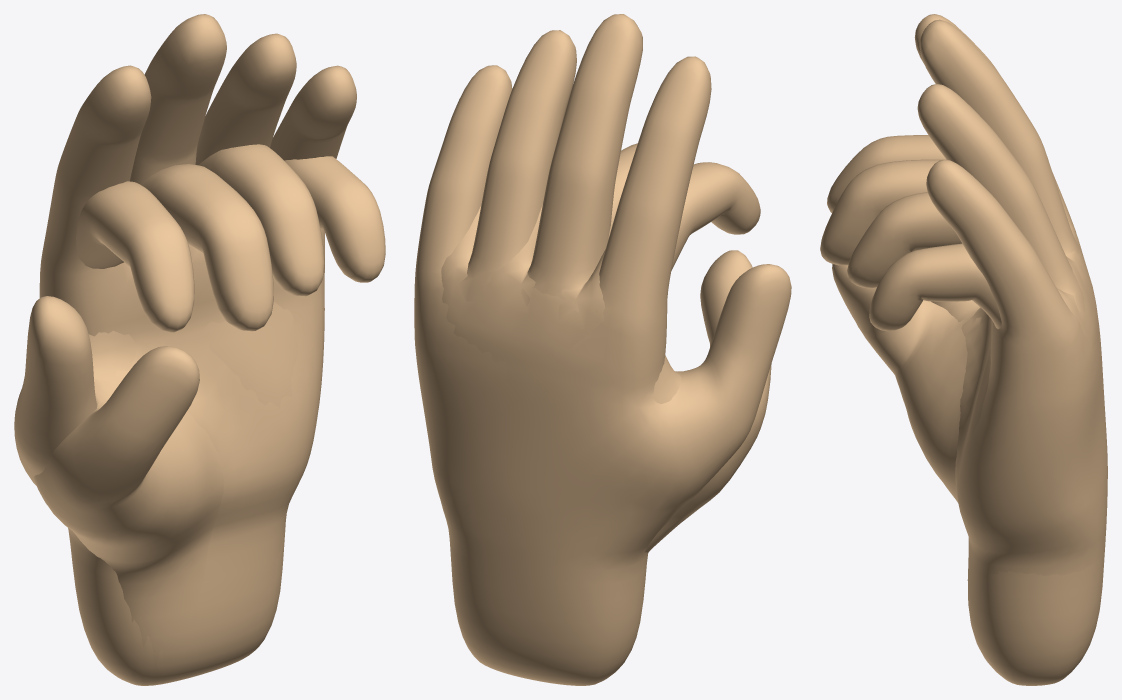
The model's file is Hand.fbx.
The picture shows the model from 3 angles, left to right: view 1: azimuth 30°, elevation 25°; view 2: azimuth 150°, elevation 25°; view 3: azimuth 270°, elevation 25°; orthographic projection. The views are drawn at different scales.
Visible parts, largest first — view 1: hand, hand.001; view 2: hand, hand.001; view 3: hand, hand.001.
Boxes of the visible parts, <box> form: hand: <box>14,14,356,685</box>; hand.001: <box>33,144,385,685</box>; hand: <box>414,14,791,685</box>; hand.001: <box>441,143,771,666</box>; hand: <box>914,14,1107,647</box>; hand.001: <box>820,135,1104,685</box>.
Bounding box in the file's own units: 216 × 419 × 173.
